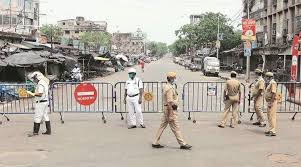mask: (263, 71, 275, 85), (30, 70, 41, 83), (167, 71, 177, 85), (127, 70, 137, 83)
